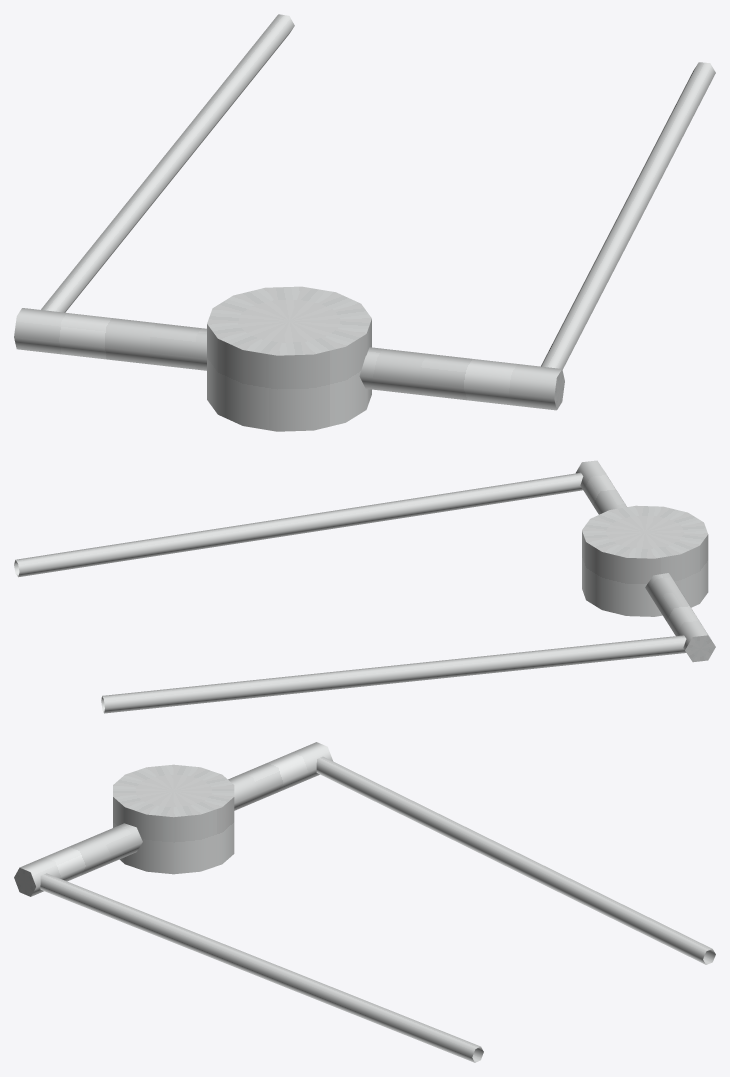
Rendered from nycsignalarm_diagonal8_c0_pedestal.obj.
The picture shows the model from 3 angles, top to bottom: view 1: azimuth 30°, elevation 25°; view 2: azimuth 150°, elevation 25°; view 3: azimuth 270°, elevation 25°; orthographic projection. The views are drawn at different scales.
Parts seen in each view (by area): view 1: nycsignalarm_diagonal8_c0_pedestal; view 2: nycsignalarm_diagonal8_c0_pedestal; view 3: nycsignalarm_diagonal8_c0_pedestal.
Part boxes in pixels (left/top/right/bottom): nycsignalarm_diagonal8_c0_pedestal: left=14, top=14, right=715, bottom=431; nycsignalarm_diagonal8_c0_pedestal: left=14, top=460, right=715, bottom=713; nycsignalarm_diagonal8_c0_pedestal: left=14, top=742, right=715, bottom=1062.
Size of the model in its own units: 2.51 by 0.225 by 2.51.
